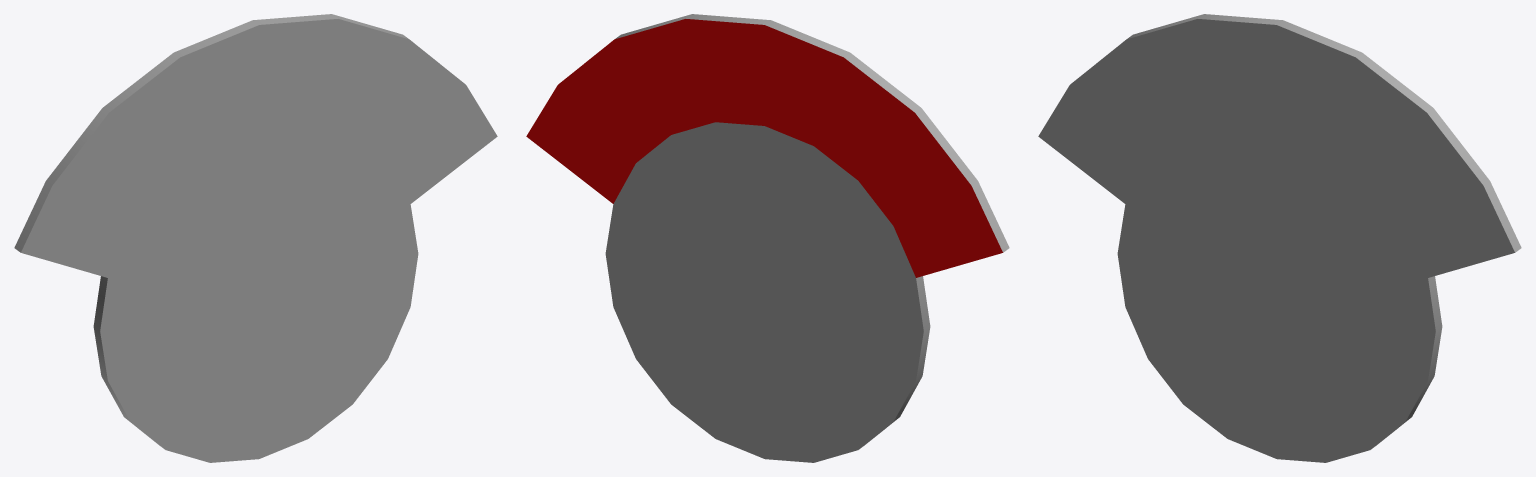
Rendered from nCog.fbx.
The picture shows the model from 3 angles, left to right: view 1: azimuth 30°, elevation 25°; view 2: azimuth 150°, elevation 25°; view 3: azimuth 330°, elevation 25°; orthographic projection.
Visible parts, largest first — view 1: pCylinder3; view 2: pCylinder3; view 3: pCylinder3.
Boxes of the visible parts, x1,y1,x2,y2 form: pCylinder3: (14,14,497,462); pCylinder3: (526,14,1009,462); pCylinder3: (1038,14,1521,462).
Bounding box in the file's own units: 74.65 × 64.93 × 1.78.
